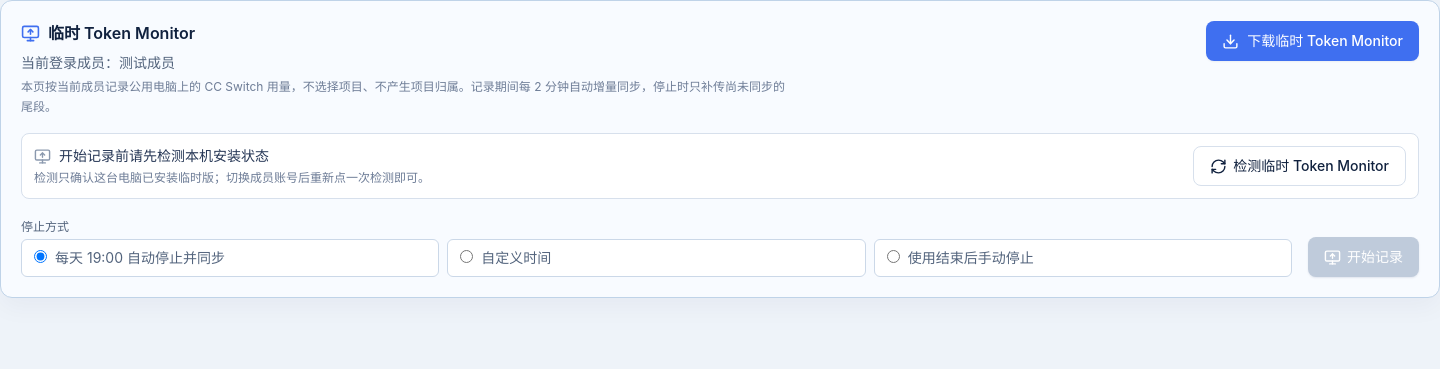
Test: SharedDeviceSessionPanel › stops an unanswered installation probe and explains how to retry
The width and height of the screenshot is (1440, 369).
Click the button "检测临时 Token Monitor" at (1300, 166), box x1=1193 y1=146 x2=1406 y2=186
Wait 18000 ms
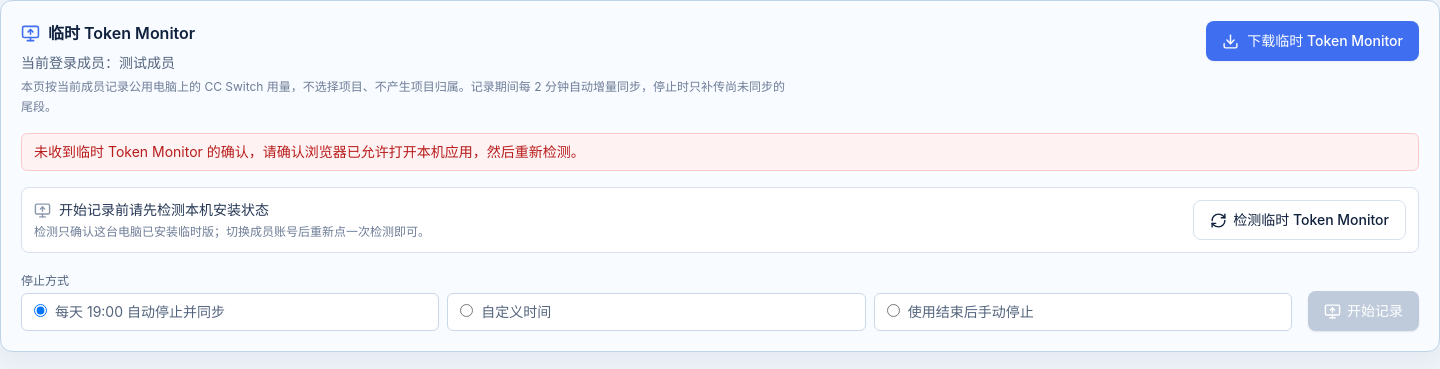
Expected: the button "检测临时 Token Monitor" is enabled, x1=1193 y1=200 x2=1406 y2=240
Result: the message reads "未收到临时 Token Monitor 的确认，请确认浏览器已允许打开本机应用，然后重新检测。" at x1=34 y1=143 x2=585 y2=160
